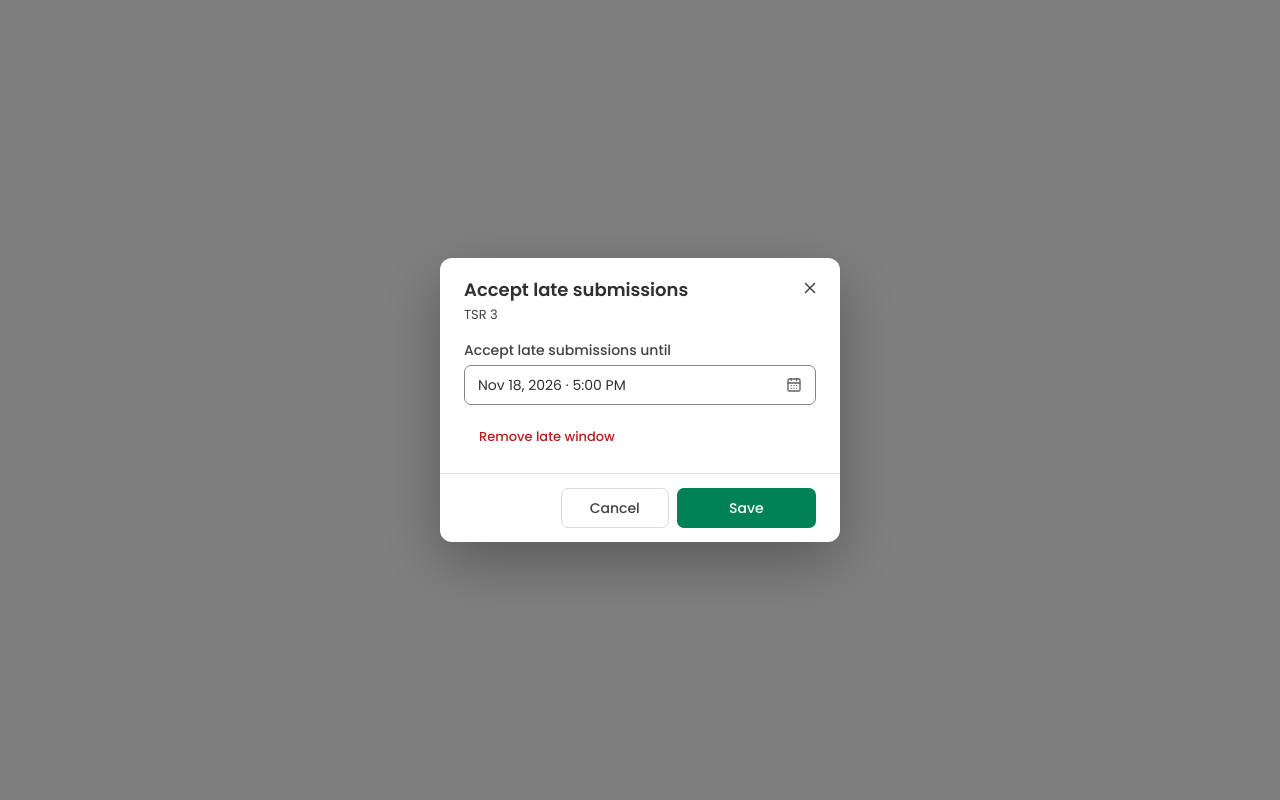
Test: LateWindowModal › says what failed when a save fails without a message
The image size is (1280, 800).
Click the button "Save": (746,508) [677, 488, 816, 528]
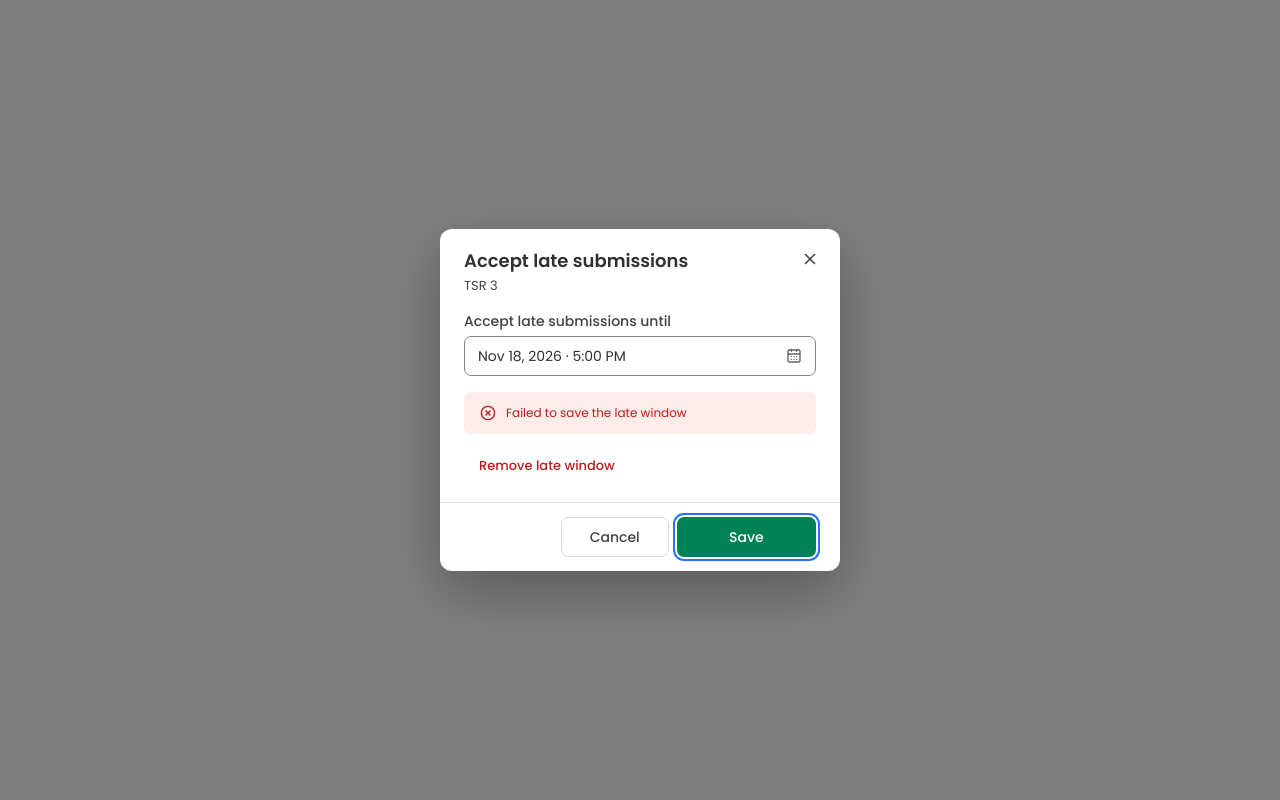
Result: the message reads "Failed to save the late window" at [506, 404, 687, 421]
